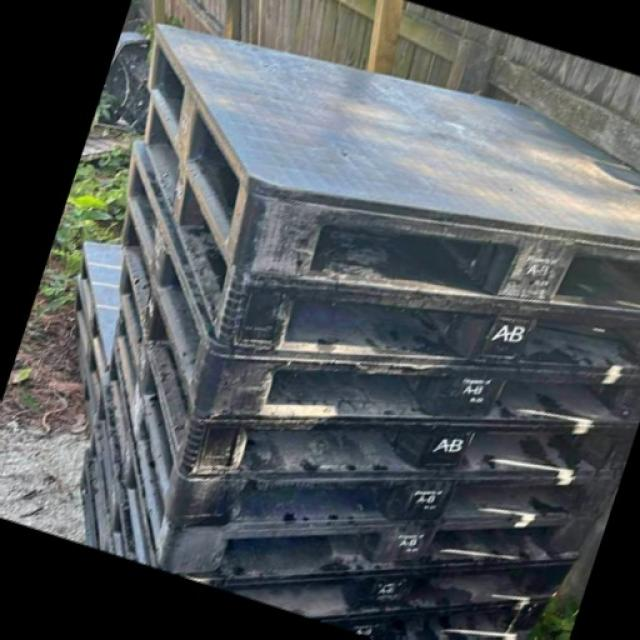non-igps: (107, 132, 640, 443), (139, 8, 640, 334), (109, 189, 640, 496), (126, 77, 640, 390), (113, 246, 640, 538), (104, 299, 605, 595), (145, 550, 583, 632), (296, 580, 574, 640), (85, 376, 155, 572), (100, 369, 164, 576), (67, 226, 133, 397), (61, 266, 113, 424), (75, 420, 129, 562), (77, 457, 105, 554)
